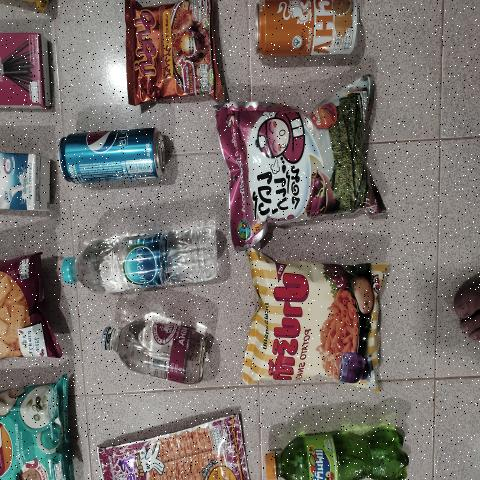bento_red: (97, 413, 248, 480)
crystal: (60, 224, 224, 296)
fanta_green: (259, 429, 412, 480)
mama: (127, 2, 213, 106)
paprika: (250, 256, 384, 384)
pepsi_blue: (59, 126, 167, 188)
singha_soda: (97, 318, 218, 379), (253, 0, 359, 58)
taokaenoi: (237, 96, 375, 233)
